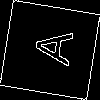A: (24, 24, 74, 67)
